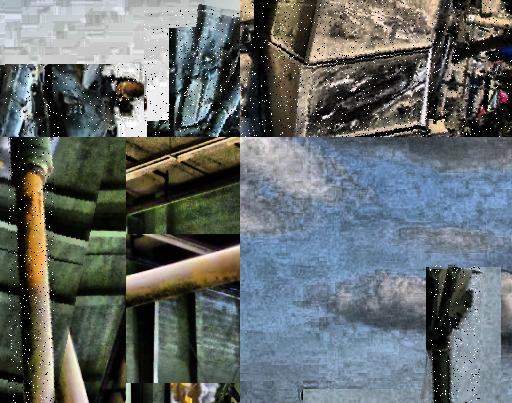tanks: (241, 1, 512, 138), (10, 138, 54, 403), (18, 66, 144, 138), (173, 10, 241, 138), (431, 266, 481, 403)
